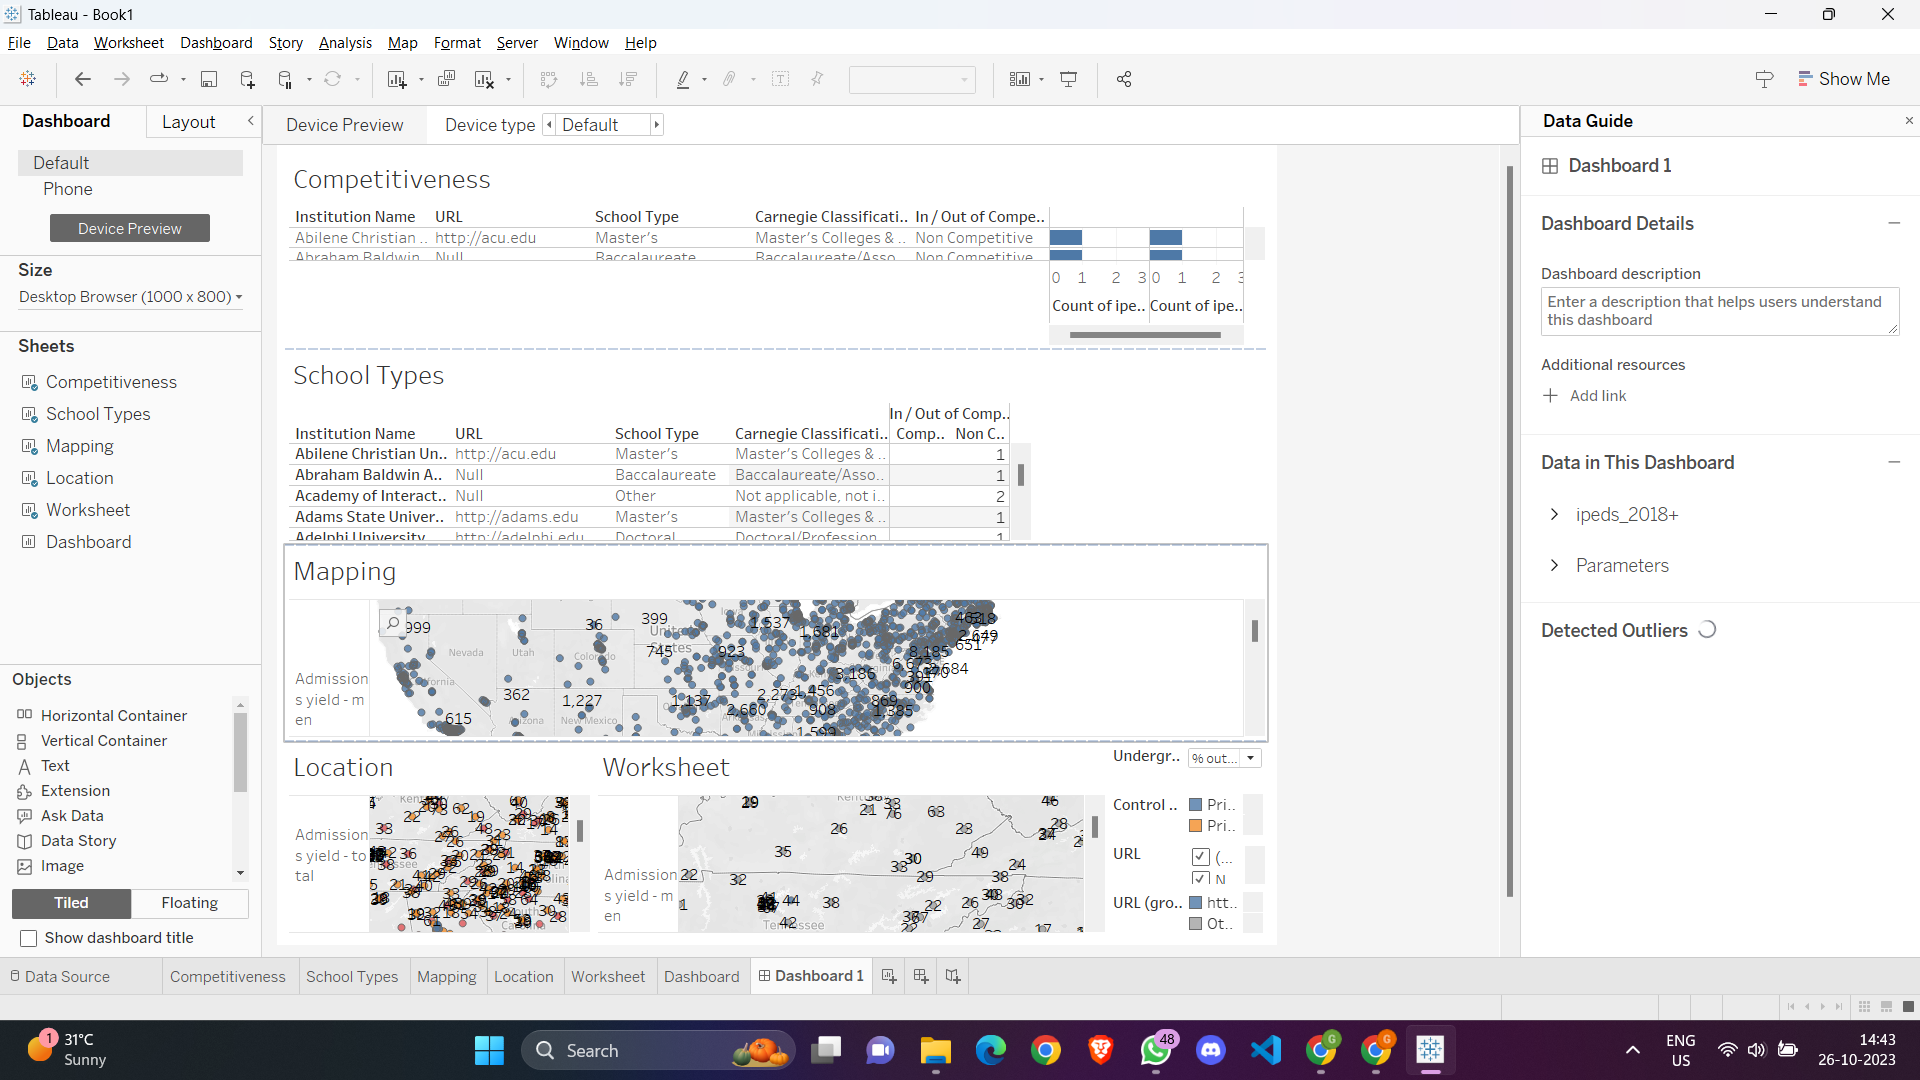

This screenshot's page, from the dashboard's own definition file:
{"tool":"tableau","page":{"name":"Dashboard 1","canvas":[1000,800],"ordinal":0},"visuals":[{"type":"worksheet","title":"Competitiveness","mark":"Automatic","rows":["Institution Name","URL"," Basic","Competitiveness"],"cols":["ipeds_2018.csv_E92E42E866B14904A8534B9A214834D3","ipeds_2018.csv_E92E42E866B14904A8534B9A214834D3"],"box":[8,8,984,196]},{"type":"worksheet","title":"School Types","mark":"Automatic","rows":["Institution Name","URL"," Basic"],"cols":["Competitiveness"],"box":[8,204,984,196]},{"type":"worksheet","title":"Mapping","mark":"Multipolygon","box":[8,400,984,196]},{"type":"worksheet","title":"Location","mark":"Multipolygon","box":[8,596,309,196]},{"type":"worksheet","title":"Worksheet","mark":"Multipolygon","box":[317,596,515,196]},{"type":"parameter","param":"[Parameters].[Parameter 1]","box":[832,596,160,49]},{"type":"legend","title":"Location","param":"[federated.0zfp3fp1usr8ng1cpquyv0lp75uj].[none:Control of institution:nk]","box":[832,645,160,49]},{"type":"filter","title":"Worksheet","param":"[federated.0zfp3fp1usr8ng1cpquyv0lp75uj].[none:URL:nk]","box":[832,694,160,49]},{"type":"legend","title":"Worksheet","param":"[federated.0zfp3fp1usr8ng1cpquyv0lp75uj].[URL (group) 1]","box":[832,743,160,49]}]}

Visuals, with their boxes on the page's 1000x800 design canvas (x1, y1, x2, y2). These are canvas units, not pixel positions in the 1920x1080 screenshot, which may show the page scaled, cropped or inside an application window:
"Competitiveness" worksheet: 8,8,992,204
"School Types" worksheet: 8,204,992,400
"Mapping" worksheet (Multipolygon marks): 8,400,992,596
"Location" worksheet (Multipolygon marks): 8,596,317,792
"Worksheet" worksheet (Multipolygon marks): 317,596,832,792
parameter: 832,596,992,645
"Location" legend: 832,645,992,694
"Worksheet" filter: 832,694,992,743
"Worksheet" legend: 832,743,992,792
